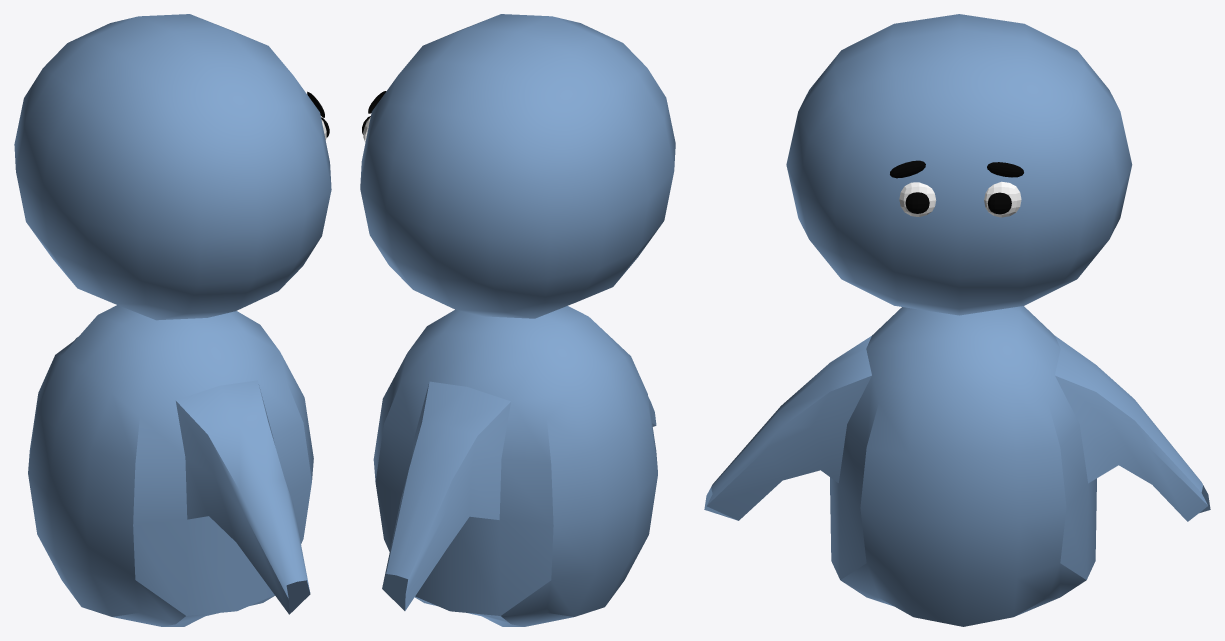
File: character.glb
3 renders of one model, left to right at view 1: azimuth 30°, elevation 25°; view 2: azimuth 150°, elevation 25°; view 3: azimuth 270°, elevation 25°, orthographic.
Parts seen in each view (by area): view 1: character; view 2: character; view 3: character.
Boxes of the visible parts, <box> form: character: <box>14,14,331,626</box>; character: <box>360,14,675,626</box>; character: <box>704,14,1210,626</box>.
Size of the model in its own units: 5.09 by 10.82 by 8.41.
